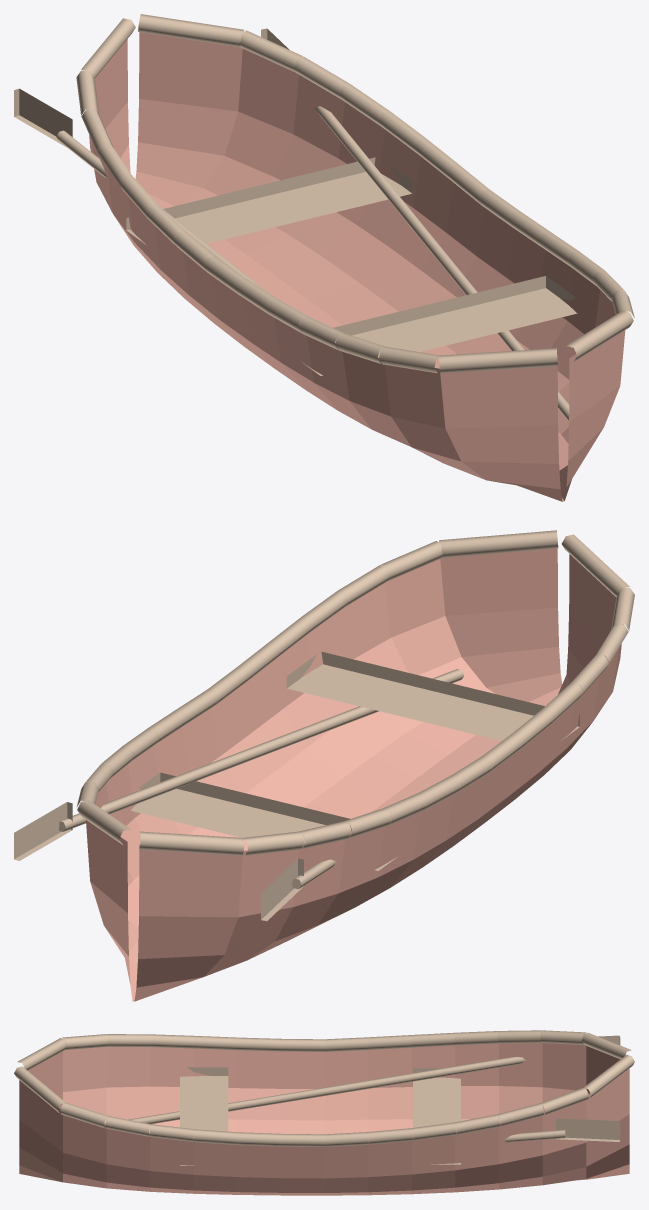
File: HarborRowboatRed.gltf
3 renders of one model, top to bottom at view 1: azimuth 30°, elevation 25°; view 2: azimuth 150°, elevation 25°; view 3: azimuth 270°, elevation 25°, orthographic. The views are drawn at different scales.
Parts seen in each view (by area): view 1: HarborRowboatRed; view 2: HarborRowboatRed; view 3: HarborRowboatRed.
Boxes of the visible parts, x1,y1,x2,y2 form: HarborRowboatRed: [14, 14, 634, 501]; HarborRowboatRed: [14, 530, 634, 1001]; HarborRowboatRed: [14, 1030, 634, 1195].
Bounding box in the file's own units: 1.48 × 0.8678 × 3.87.
